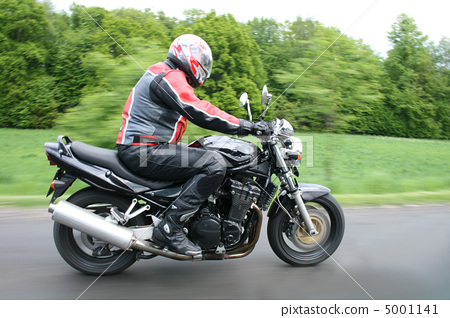helmet: (164, 29, 212, 80)
